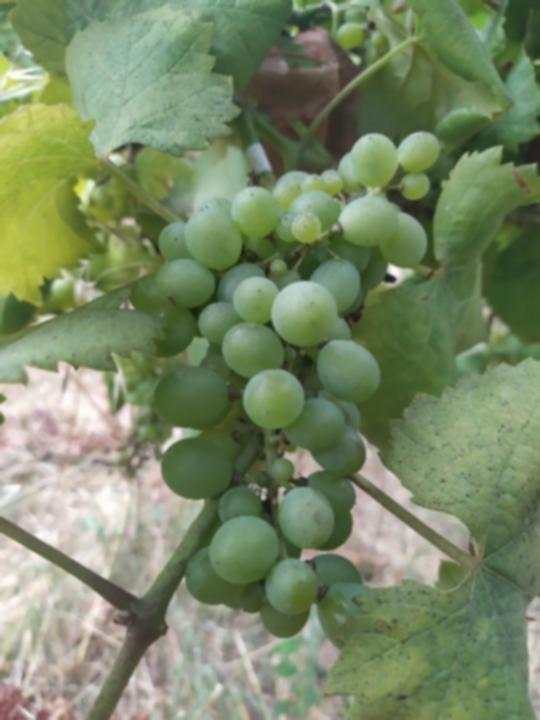grape: (129, 127, 443, 643)
